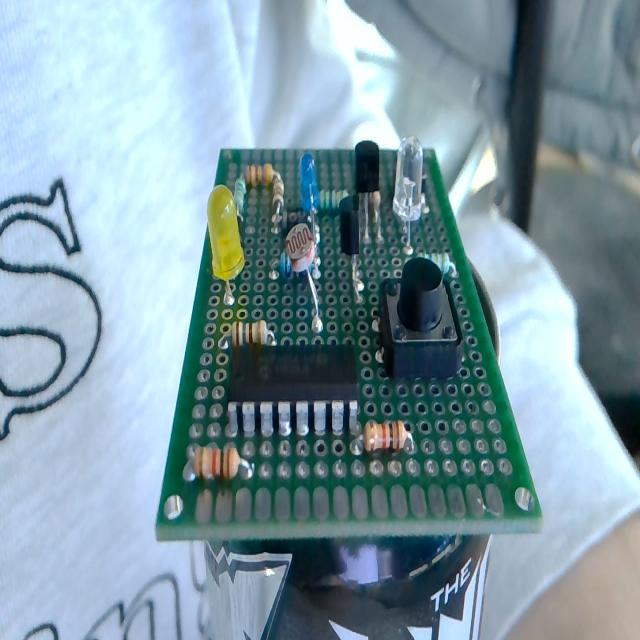IC: (219, 342, 365, 444)
cds: (282, 223, 324, 321)
led: (203, 180, 250, 306), (391, 132, 425, 252), (295, 153, 321, 235)
resistor: (355, 407, 416, 471), (178, 436, 254, 486), (223, 316, 275, 346), (270, 173, 286, 235), (242, 159, 276, 188), (232, 174, 250, 228), (316, 186, 348, 214)
switch: (379, 257, 463, 384)
transistor: (336, 191, 370, 302), (354, 136, 386, 240)
